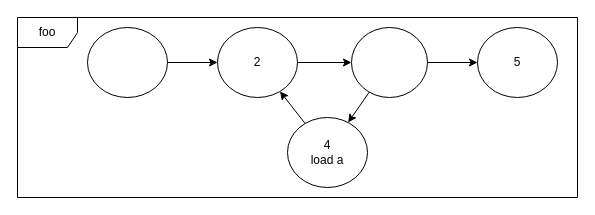
Image size: 595x215. Some labels were removed from this diagram. The shapes that lost their labels are listed below. From the top down, each one's centre as x and y in pixels, then its label:
the point at 127,62: 1 store a load a
the point at 389,62: 3 load a store a
